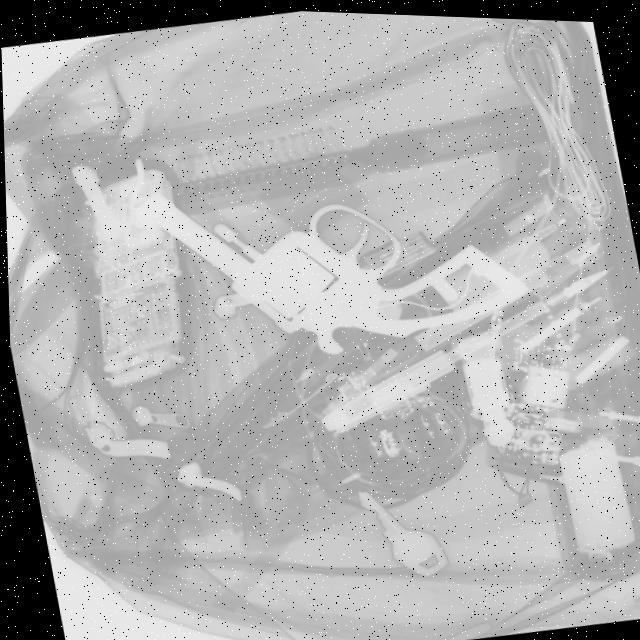pistol: (138, 136, 535, 383)
